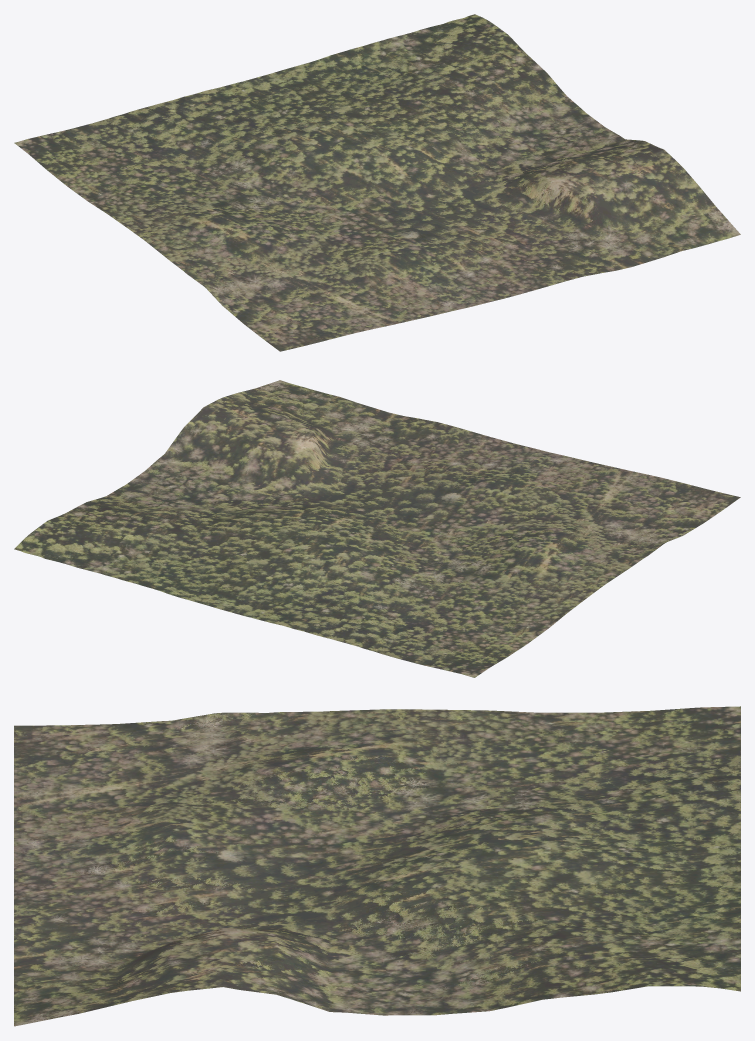
File: CM_Terrain_24493530_6814264.fbx
3 renders of one model, top to bottom at view 1: azimuth 30°, elevation 25°; view 2: azimuth 150°, elevation 25°; view 3: azimuth 270°, elevation 25°, orthographic. The views are drawn at different scales.
Visible parts, largest first — view 1: CM_Terrain_24493530_6814264_LOD0; view 2: CM_Terrain_24493530_6814264_LOD0; view 3: CM_Terrain_24493530_6814264_LOD0.
Part boxes in pixels (x1,y1,x2,y2): CM_Terrain_24493530_6814264_LOD0: (14, 14, 740, 351); CM_Terrain_24493530_6814264_LOD0: (14, 380, 740, 677); CM_Terrain_24493530_6814264_LOD0: (14, 706, 740, 1026).
Size of what is drawn, in the model's own units: 205 by 15.3 by 205.
